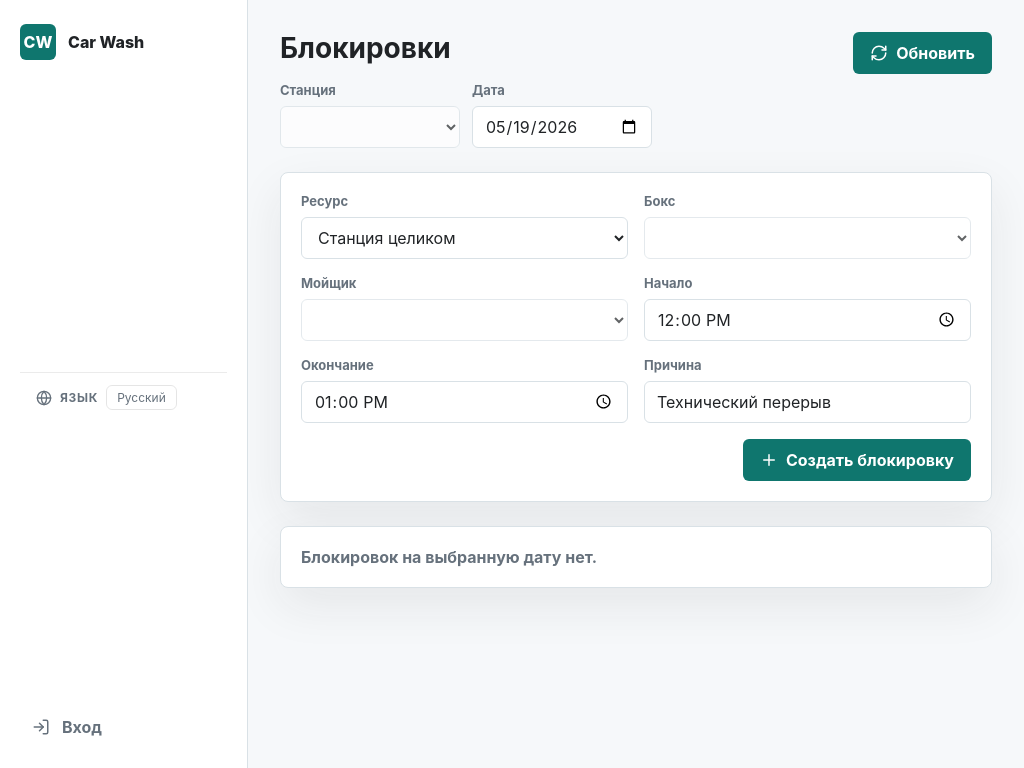
it: App › validates resource block time range
Expected: the heading "Блокировки" is shown, x1=280 y1=31 x2=451 y2=65
Replace the text in the time field labelled "Окончание" with "11:00". click: x=464, y=402
box: x1=301 y1=381 x2=628 y2=423
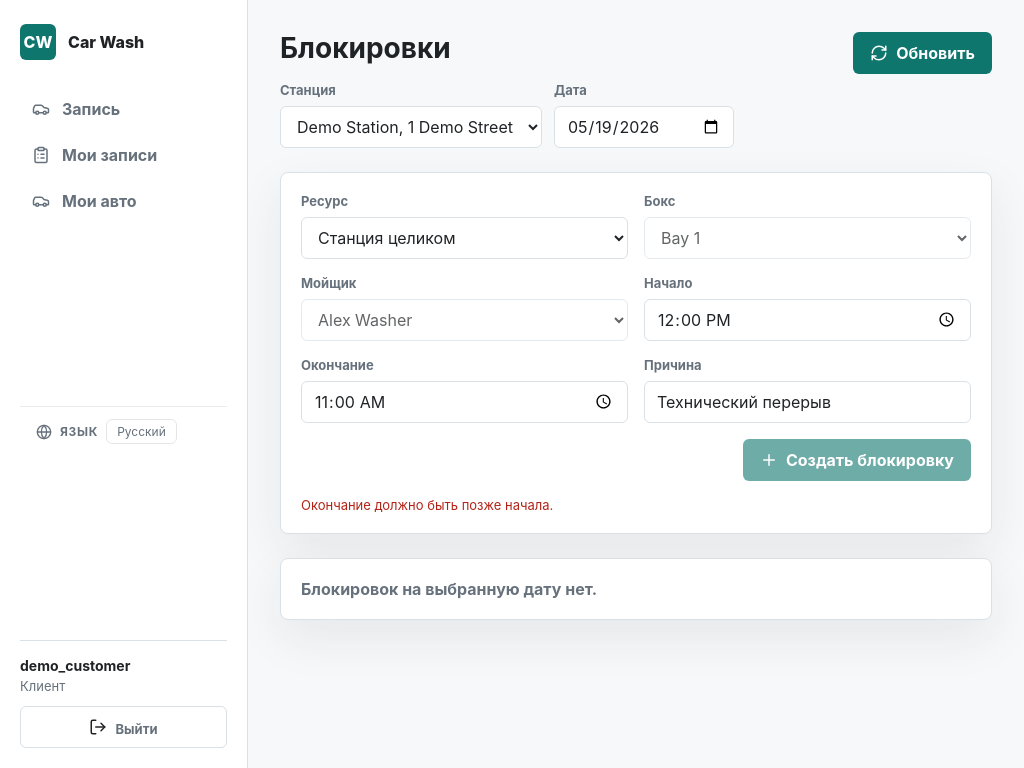
Expected: the text "Окончание должно быть позже начала." is shown, x1=301 y1=497 x2=553 y2=513
Expected: the button "Создать блокировку" is disabled, x1=743 y1=439 x2=971 y2=481
